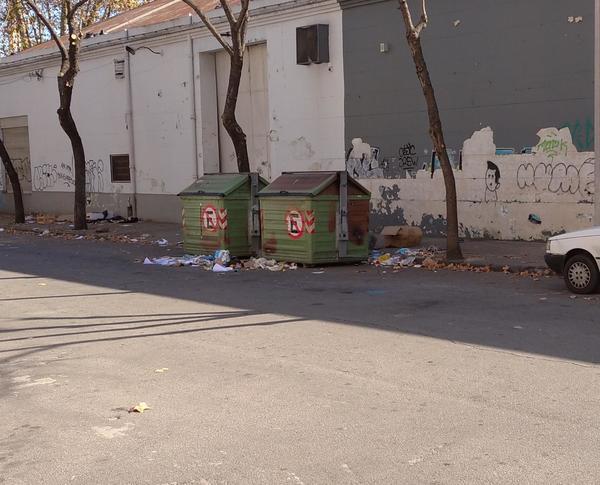Dechets: (144, 250, 296, 272), (370, 247, 446, 273), (375, 225, 422, 248), (86, 209, 129, 223), (26, 213, 73, 224), (154, 236, 172, 247)
Trash: (258, 171, 370, 266), (178, 173, 268, 257)
